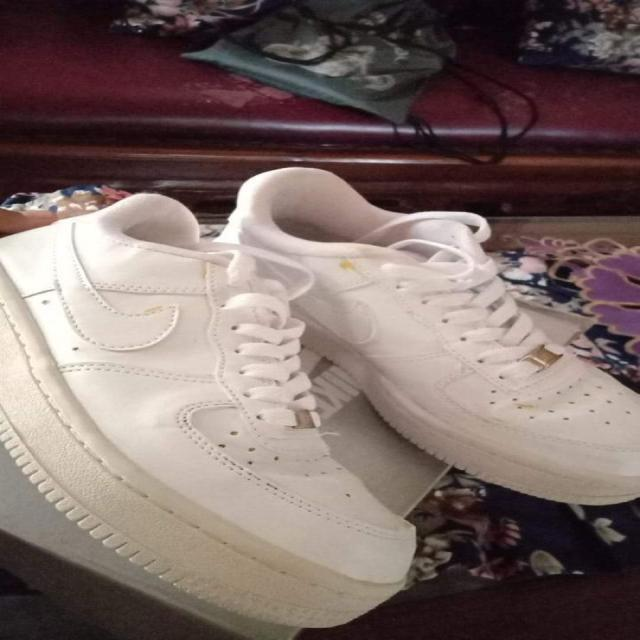nike fake air force: (0, 195, 418, 640), (228, 163, 640, 504)
